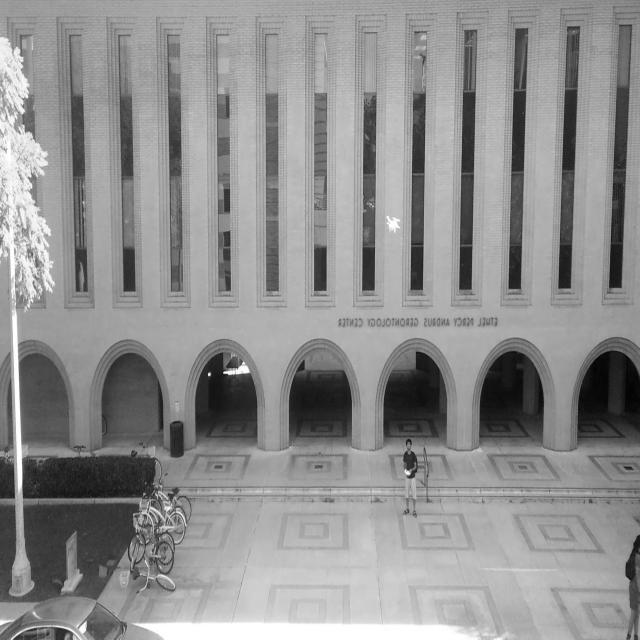drone: (383, 209, 402, 237)
